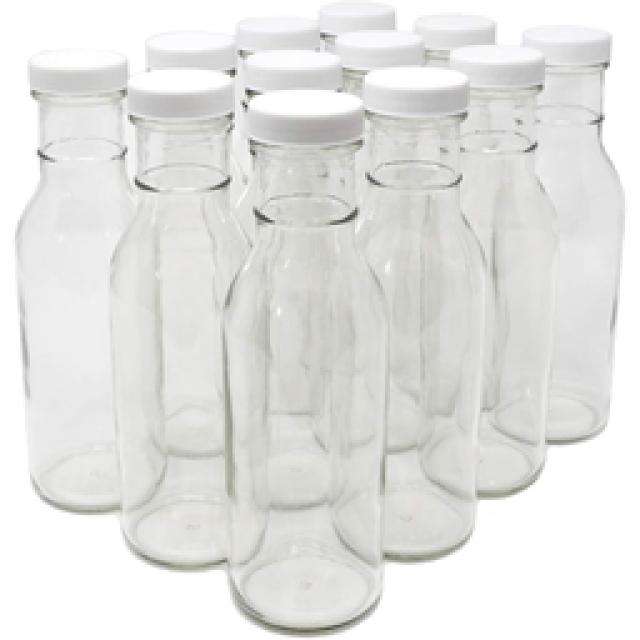glass_beverage_bottles: (226, 95, 382, 627), (115, 73, 230, 565), (12, 44, 115, 514), (382, 70, 475, 562)
